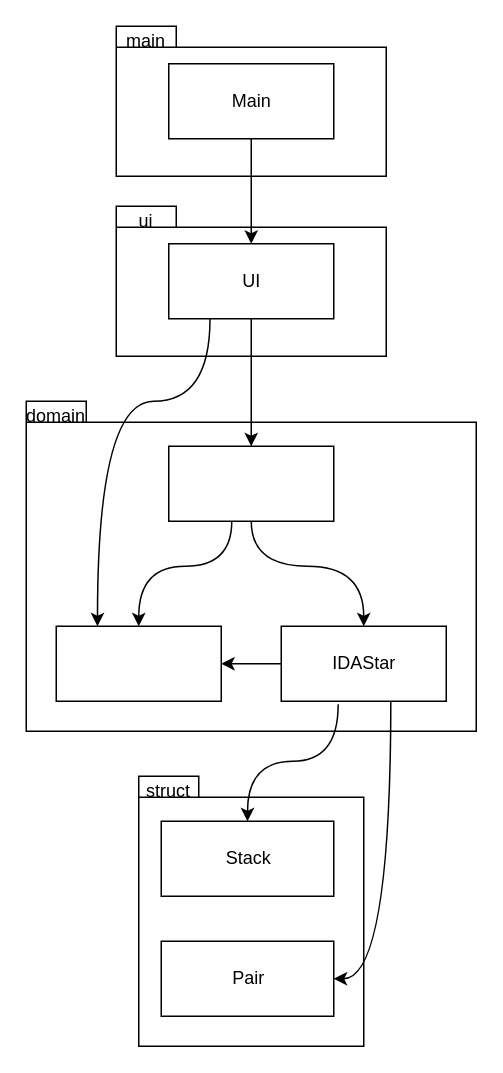
Some shapes in this 503 by 1073 pixel diagram are drawn without their labels. Each missing label, with the box of its shape:
PuzzleState: (55, 625, 221, 701)
Solver: (167, 445, 334, 521)
